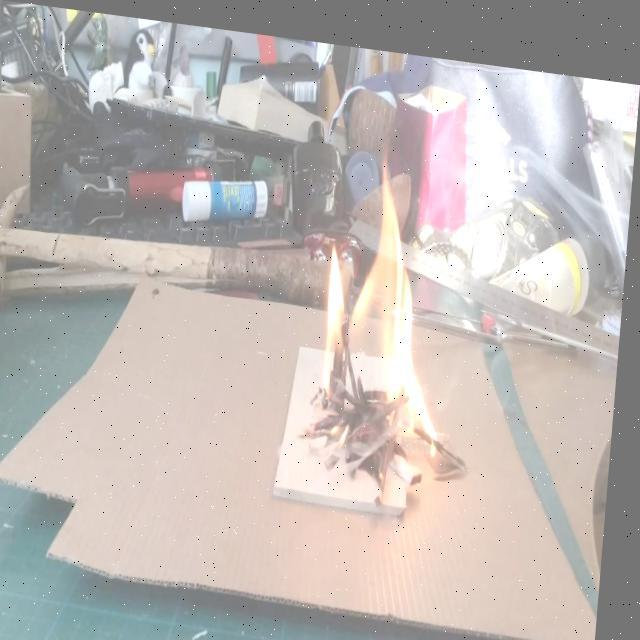Fire: (312, 121, 472, 473)
